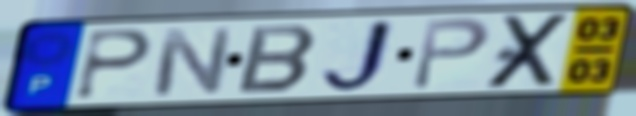B: (233, 23, 321, 95)
J: (317, 17, 400, 96)
N: (149, 25, 236, 98)
P: (408, 15, 494, 93), (71, 28, 157, 102)
X: (480, 11, 577, 92)
